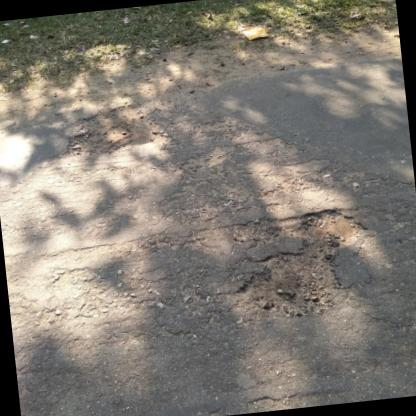pothole: (233, 244, 346, 324), (57, 98, 172, 160), (294, 202, 368, 251)
